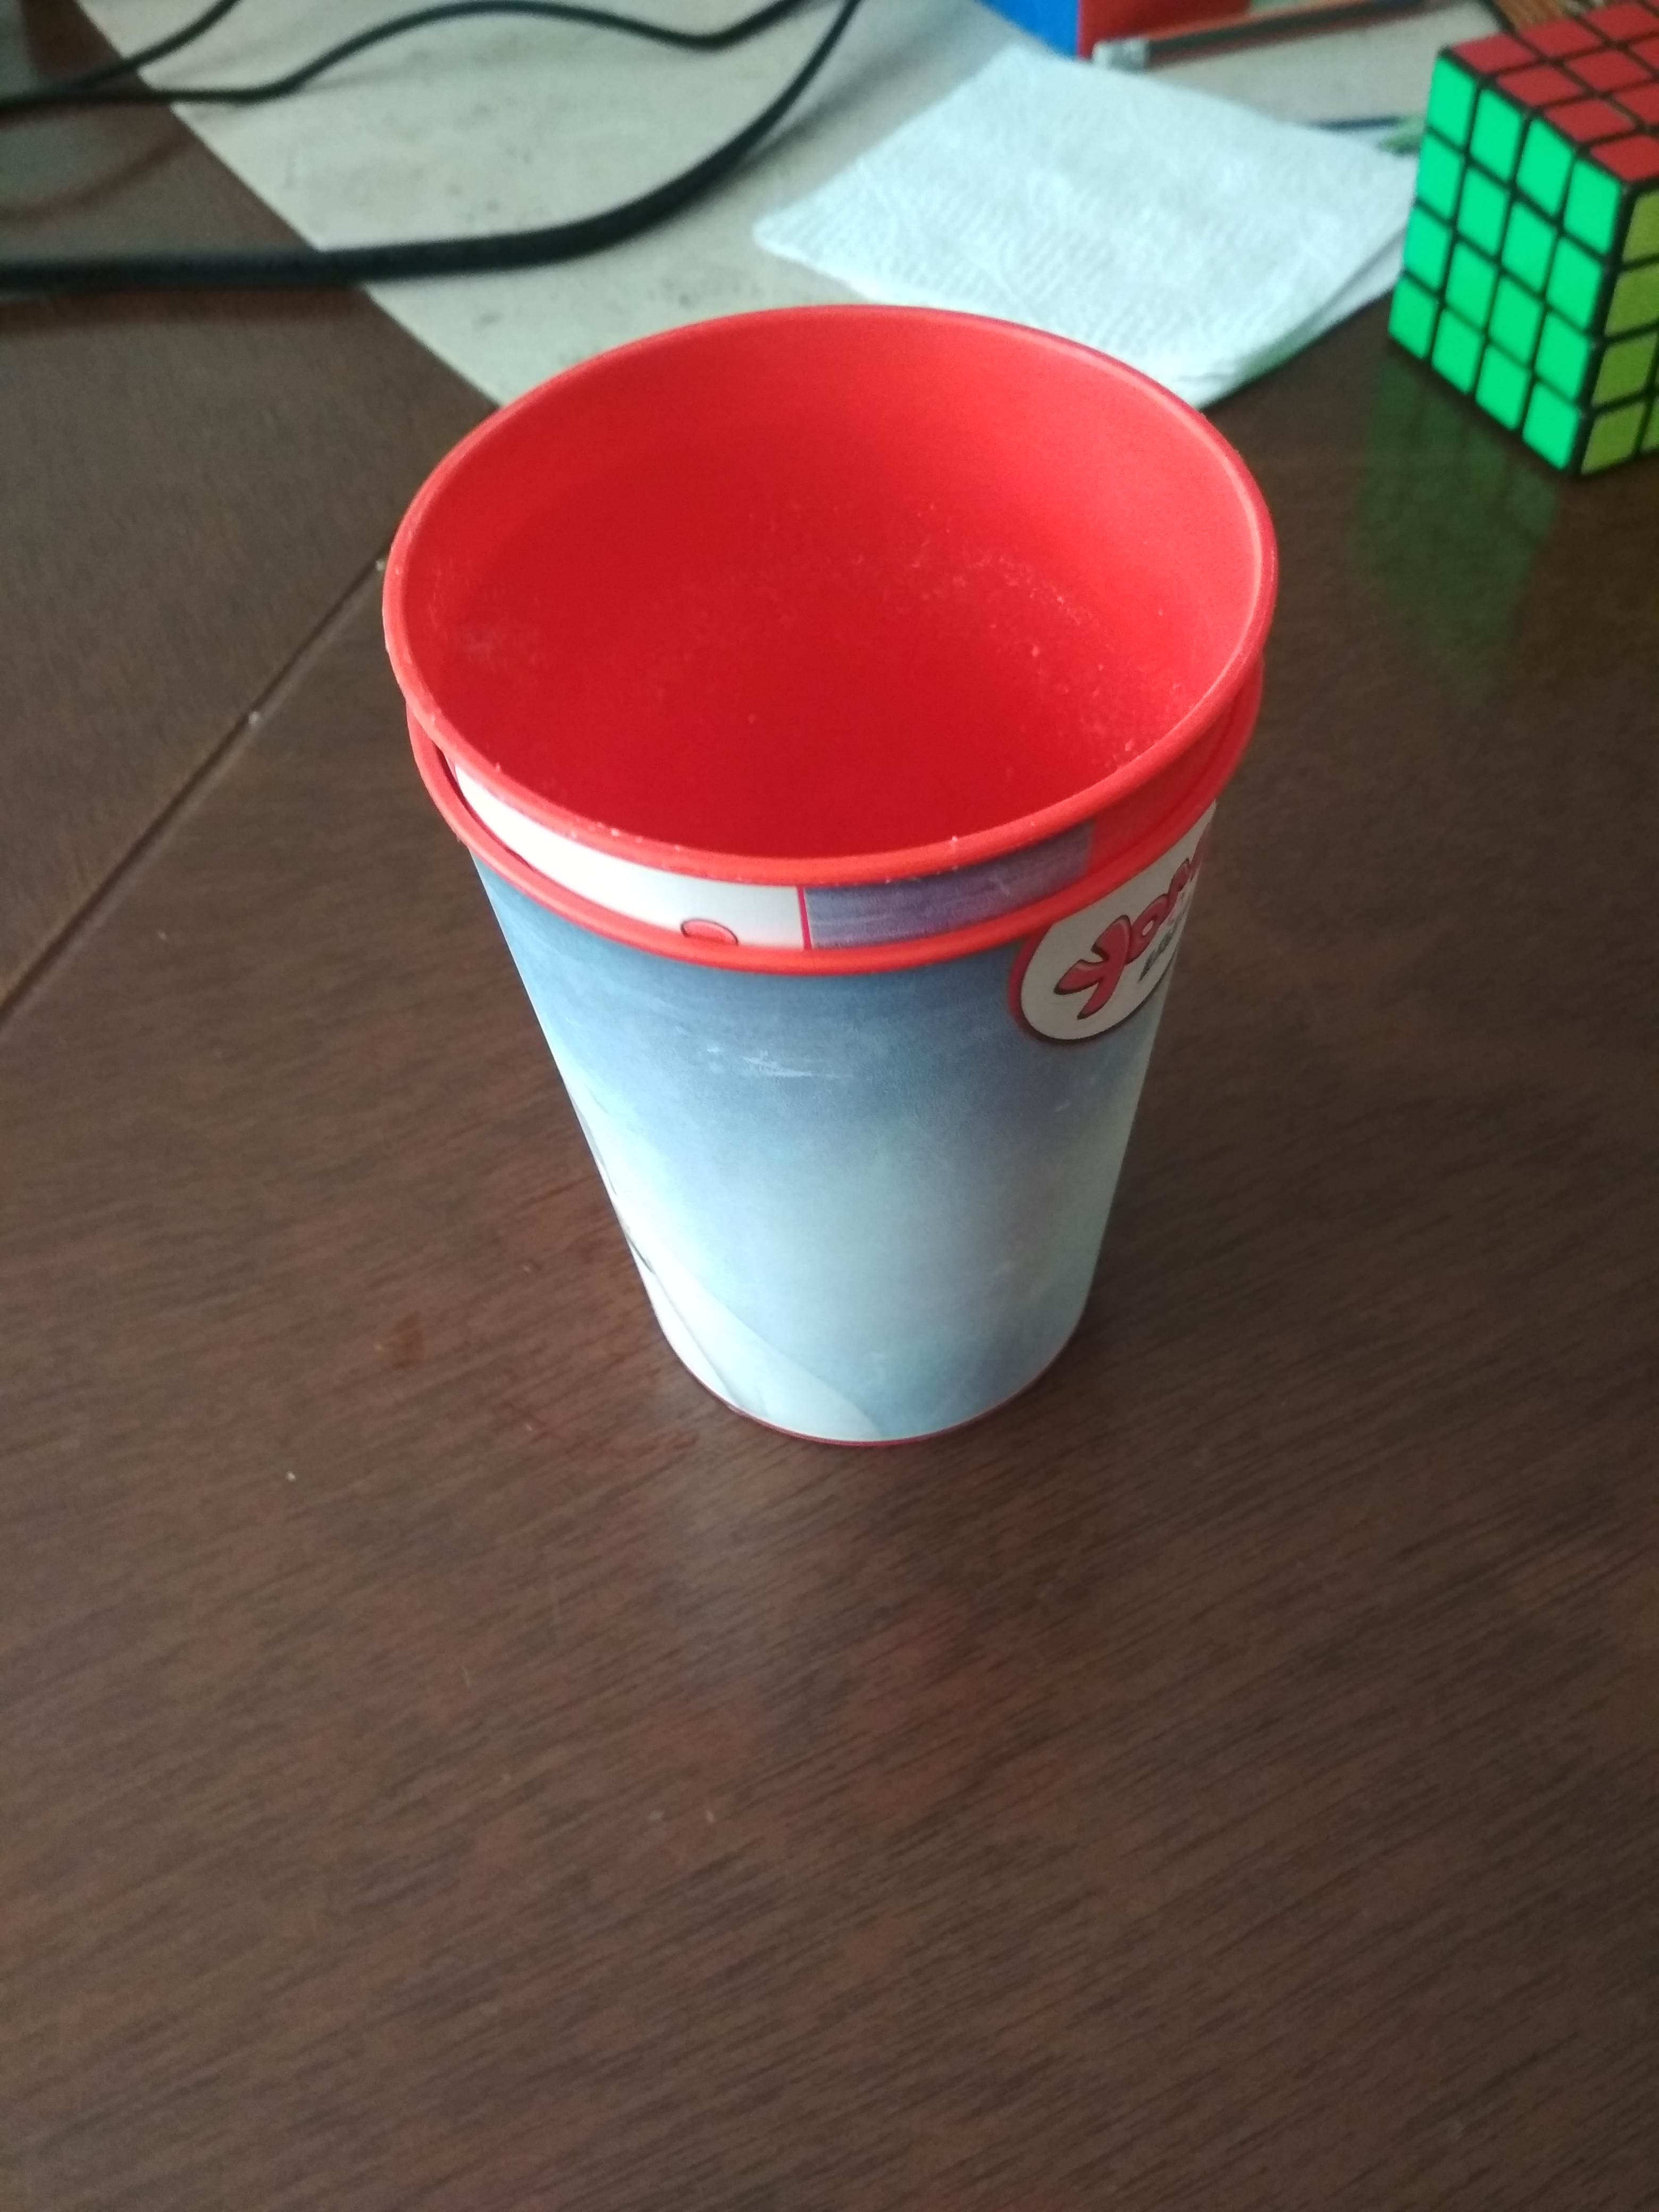glass: (354, 275, 1298, 1479)
rubik_cube: (1373, 0, 1657, 502)
